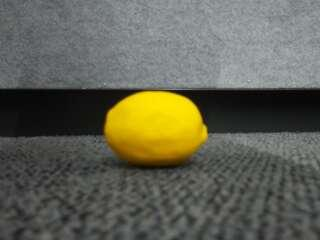lemon: (106, 92, 210, 168)
